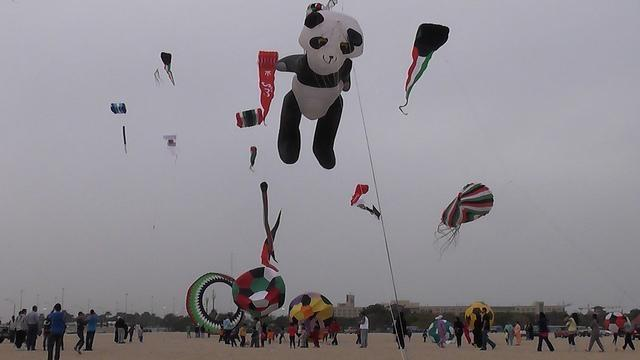car: (554, 326, 568, 338), (576, 325, 590, 337), (599, 328, 611, 338)
